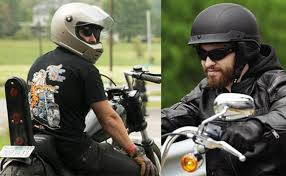helmet: (46, 1, 115, 60)
